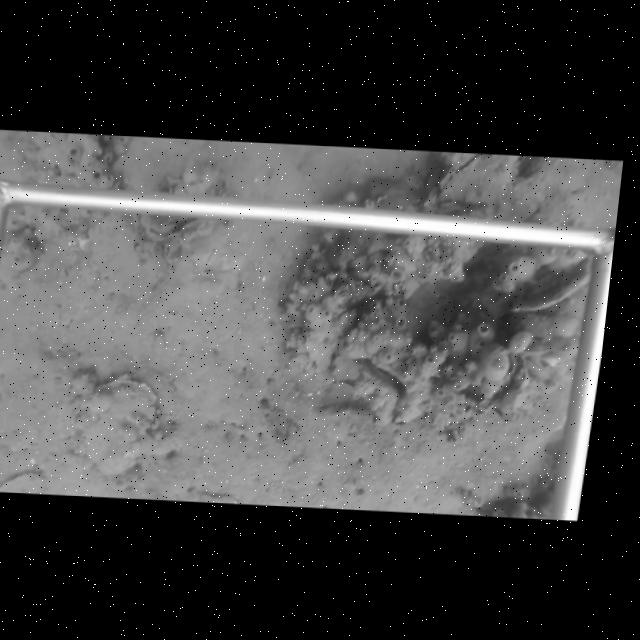Oyster-Closed: (424, 152, 522, 207)
Oyster-Indeterminate: (66, 373, 163, 477), (300, 313, 350, 382), (166, 218, 208, 239)
Oyster-Open: (478, 341, 517, 405), (510, 358, 532, 397)
